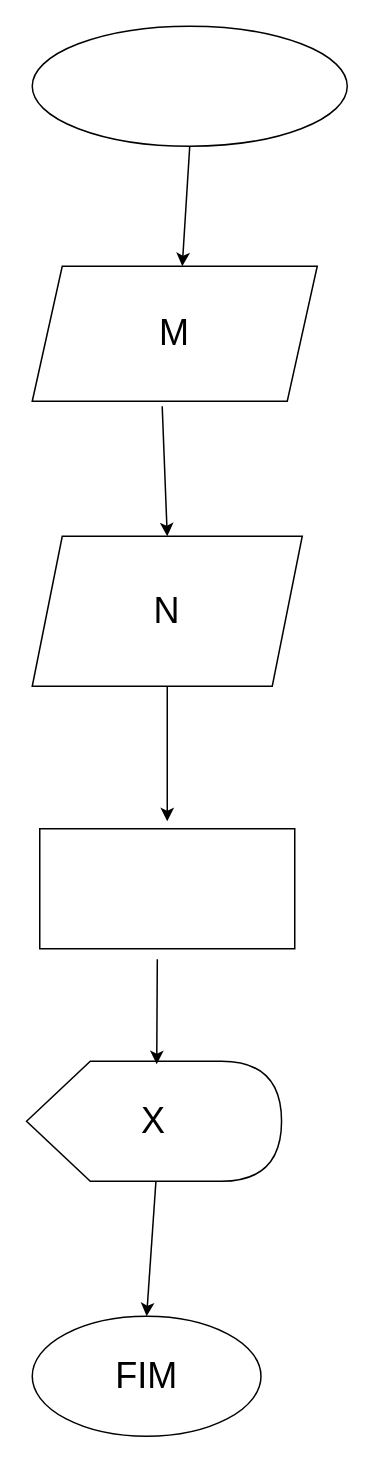
Image size: 374x1463. Some labels were removed from this diagram. The shapes that lost their labels are listed below. From the top down, each one's centre as x and y in pixels, then its label:
the point at 189,85: INICIO
the point at 166,888: X= M X N
